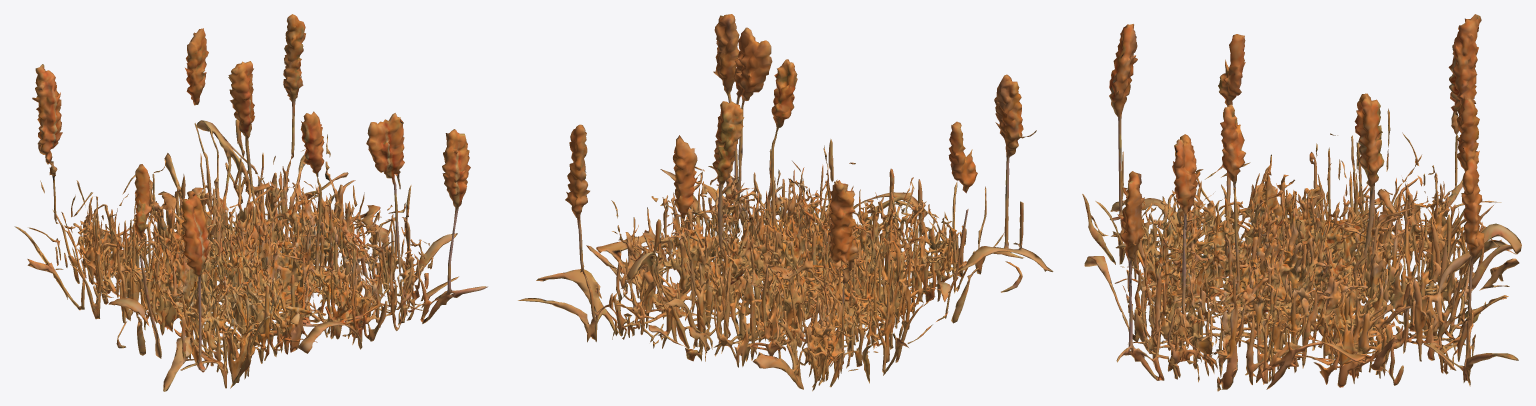
File: Wheat Field.fbx
3 renders of one model, left to right at view 1: azimuth 30°, elevation 25°; view 2: azimuth 150°, elevation 25°; view 3: azimuth 270°, elevation 25°, orthographic. The views are drawn at different scales.
Parts seen in each view (by area): view 1: Mesh1.0; view 2: Mesh1.0; view 3: Mesh1.0.
Part boxes in pixels (<box>): Mesh1.0: <box>14,14,487,391</box>; Mesh1.0: <box>518,14,1053,391</box>; Mesh1.0: <box>1082,14,1521,391</box>.
Bounding box in the file's own units: 199 × 120 × 195.
1 material, 1 textured.
